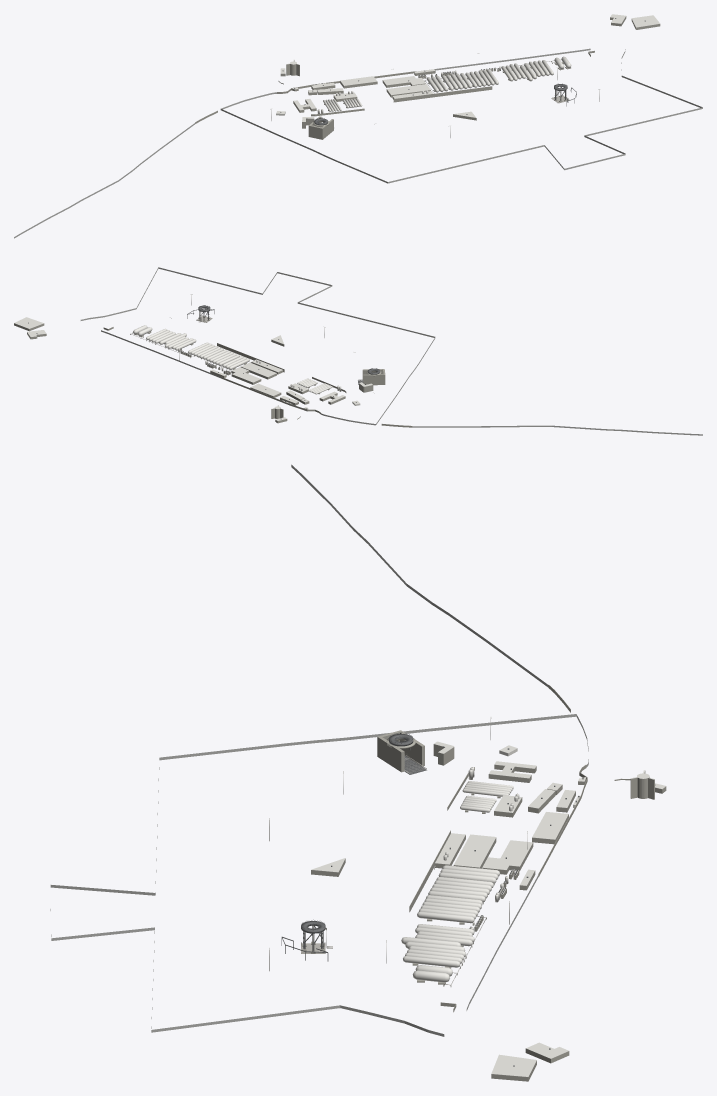
Rendered from starbase.glb.
3 renders of one model, top to bottom at view 1: azimuth 30°, elevation 25°; view 2: azimuth 150°, elevation 25°; view 3: azimuth 270°, elevation 25°, orthographic. The views are drawn at different scales.
Visible parts, largest first — view 1: SiteStructures, Fences; view 2: SiteStructures, Fences; view 3: SiteStructures, Fences.
Part boxes in pixels (left/top/right/bottom): SiteStructures: left=195, top=14, right=660, bottom=139; Fences: left=14, top=48, right=702, bottom=238; SiteStructures: left=14, top=294, right=412, bottom=427; Fences: left=80, top=267, right=702, bottom=435; SiteStructures: left=269, top=685, right=666, bottom=1081; Fences: left=50, top=464, right=588, bottom=1036.
Bounding box in the file's own units: 1183 × 21.37 × 501.
Materials: 5 (1 with a texture image).
